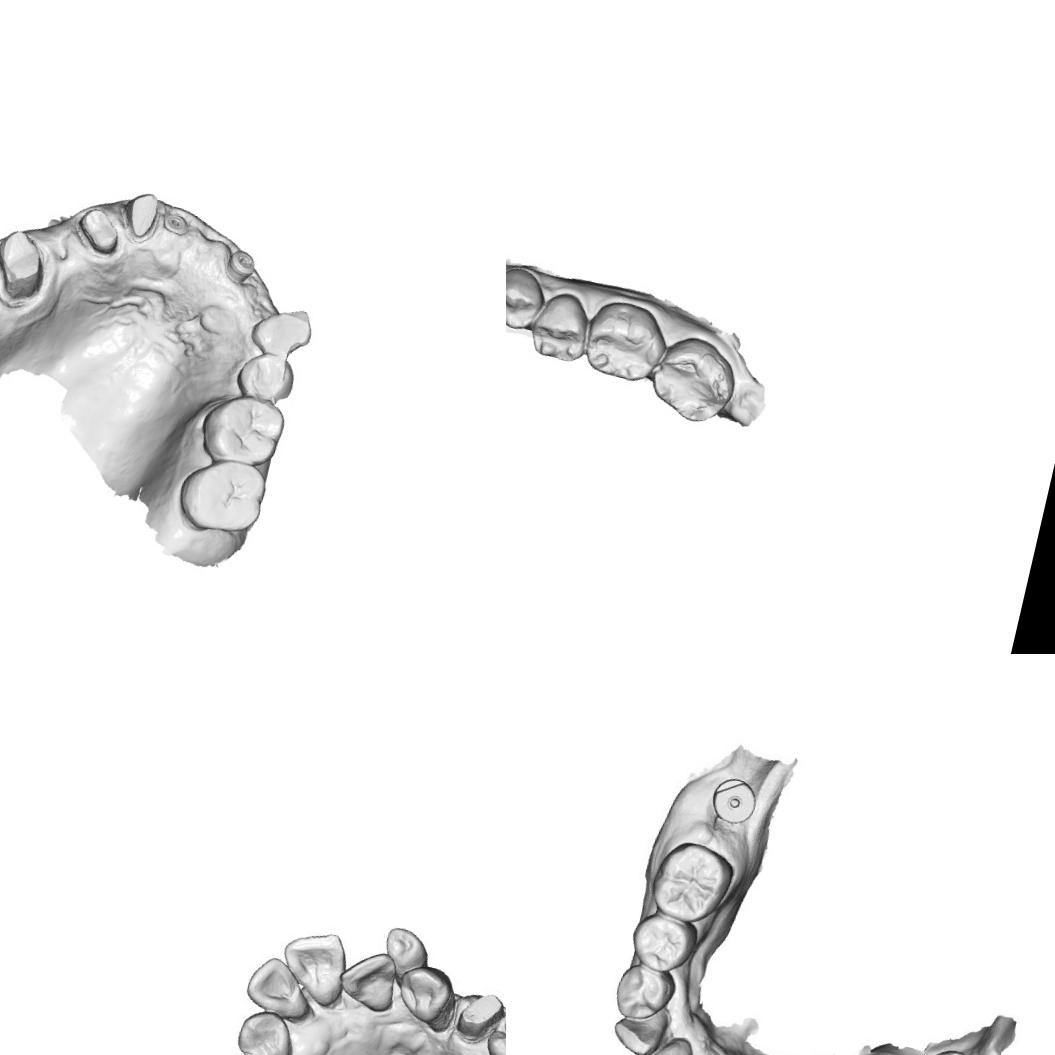canine: (245, 296, 318, 364), (391, 960, 460, 1028), (231, 1005, 300, 1055), (606, 1006, 672, 1055)
crown: (0, 222, 54, 307), (449, 984, 506, 1046), (70, 202, 126, 262), (119, 186, 167, 245)
implant: (706, 772, 759, 830), (220, 245, 260, 289), (158, 204, 194, 240)
incisor: (271, 922, 355, 1011), (241, 950, 320, 1021), (339, 950, 405, 1013), (378, 923, 434, 980), (623, 1034, 687, 1055)
molar: (170, 447, 274, 544), (643, 832, 739, 931), (643, 330, 739, 428), (192, 384, 290, 476), (579, 297, 671, 390)
premolar: (526, 286, 596, 370), (608, 958, 680, 1028), (626, 909, 699, 978), (234, 348, 303, 407), (506, 265, 549, 333), (479, 1001, 506, 1055)
